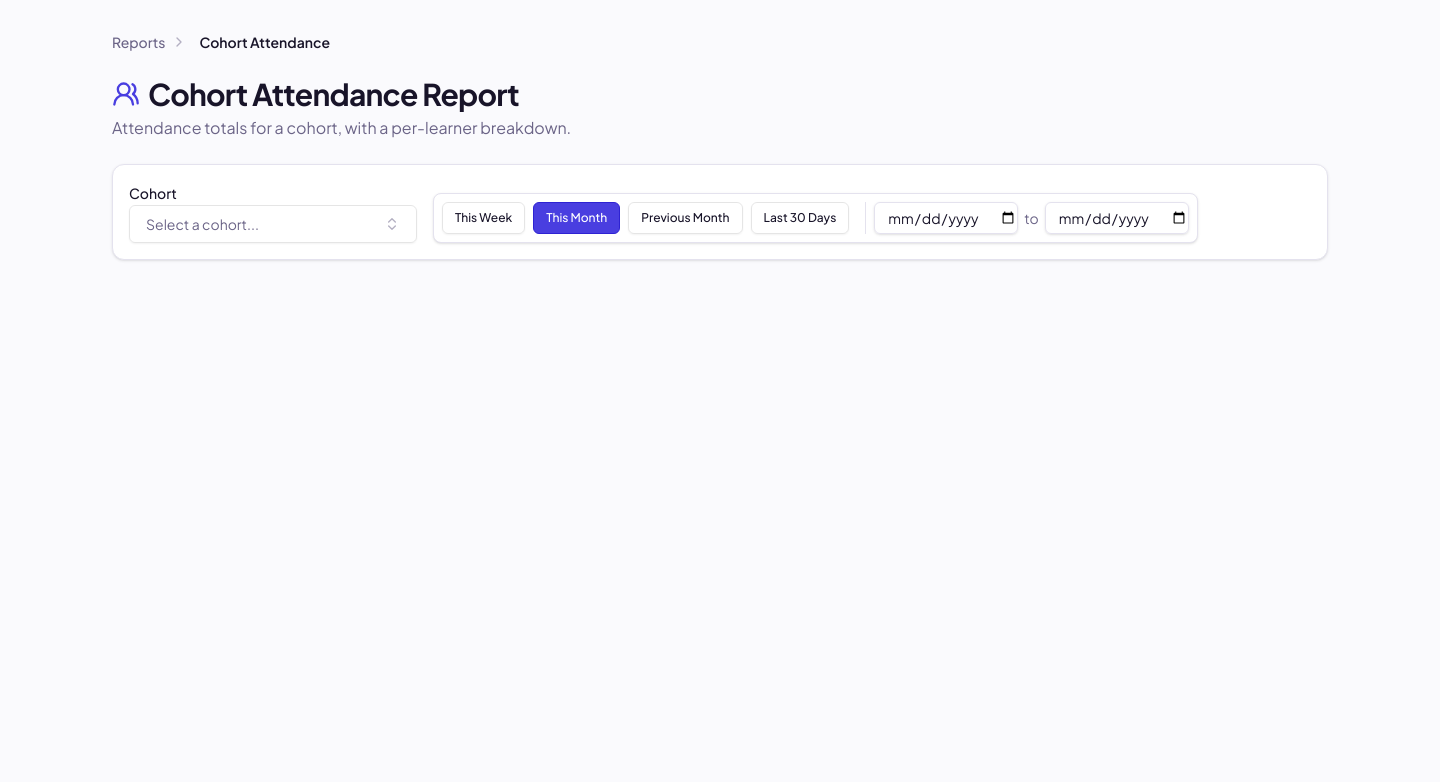
CohortReportPage › shows the per-learner breakdown once a cohort is selected, summing to the cohort total
Click the dropdown. click: (203, 224)
box: [129,205,417,243]
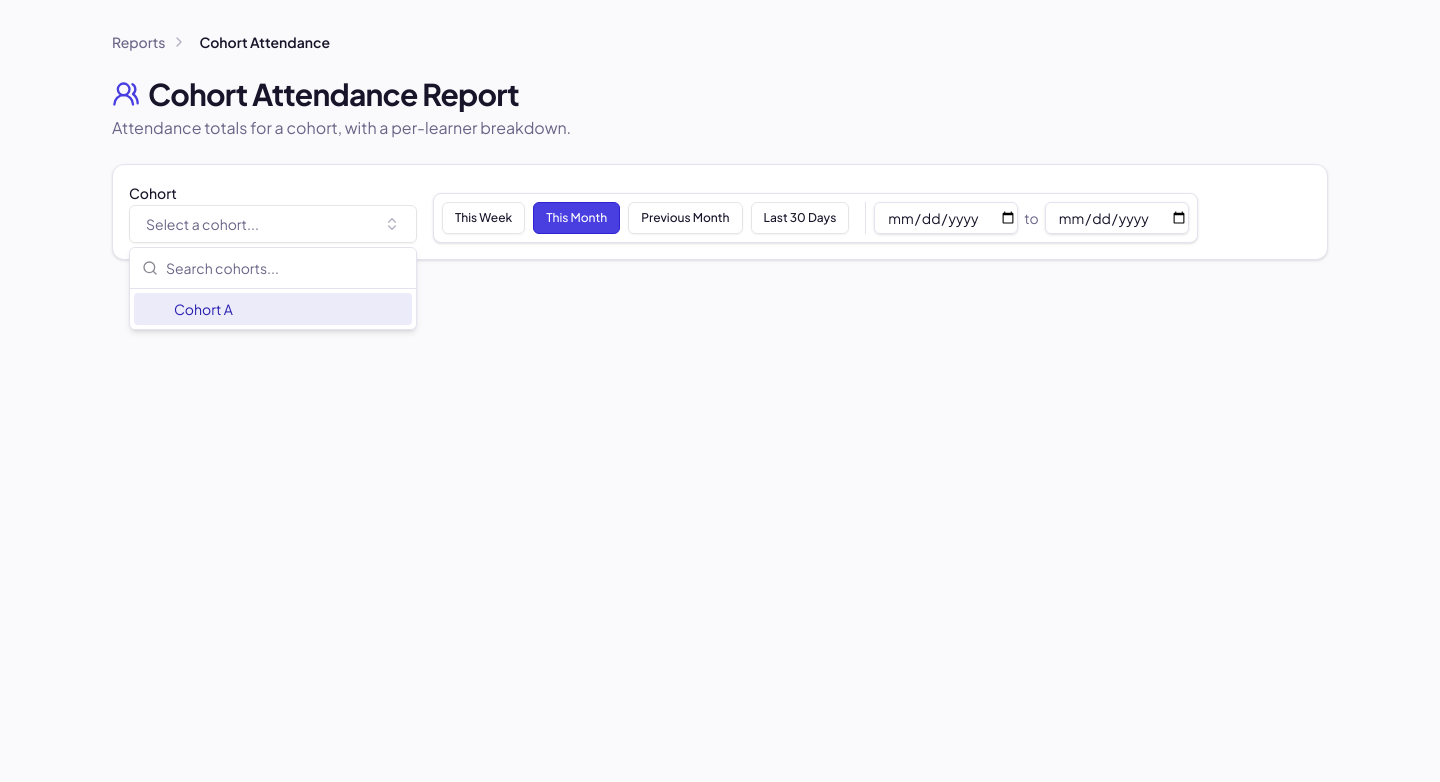
Click the option "Cohort A". click: (203, 309)
box: [134,293,412,325]
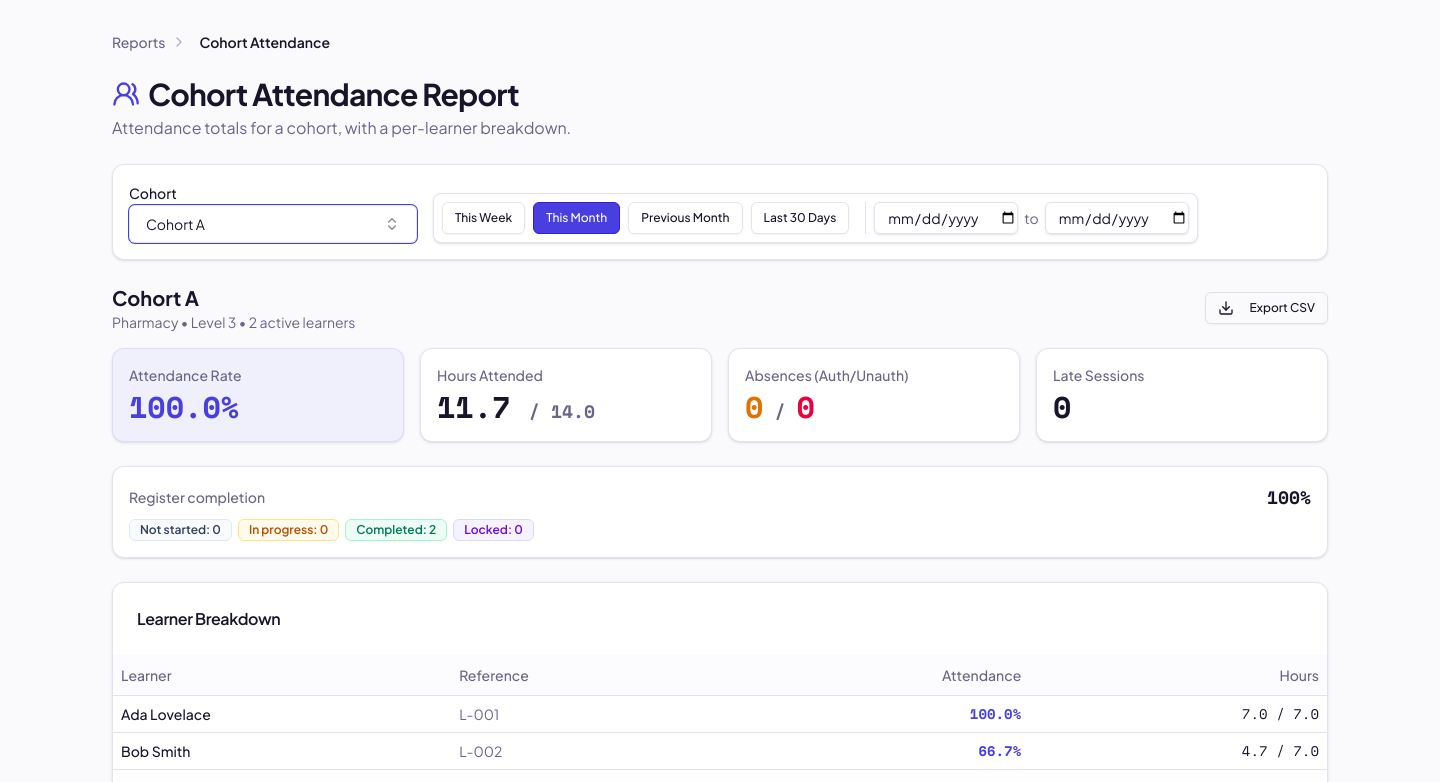
Expected: the text "Ada Lovelace" is shown, [113,695,451,732]
Expected: the text "Bob Smith" is shown, [113,732,451,768]
